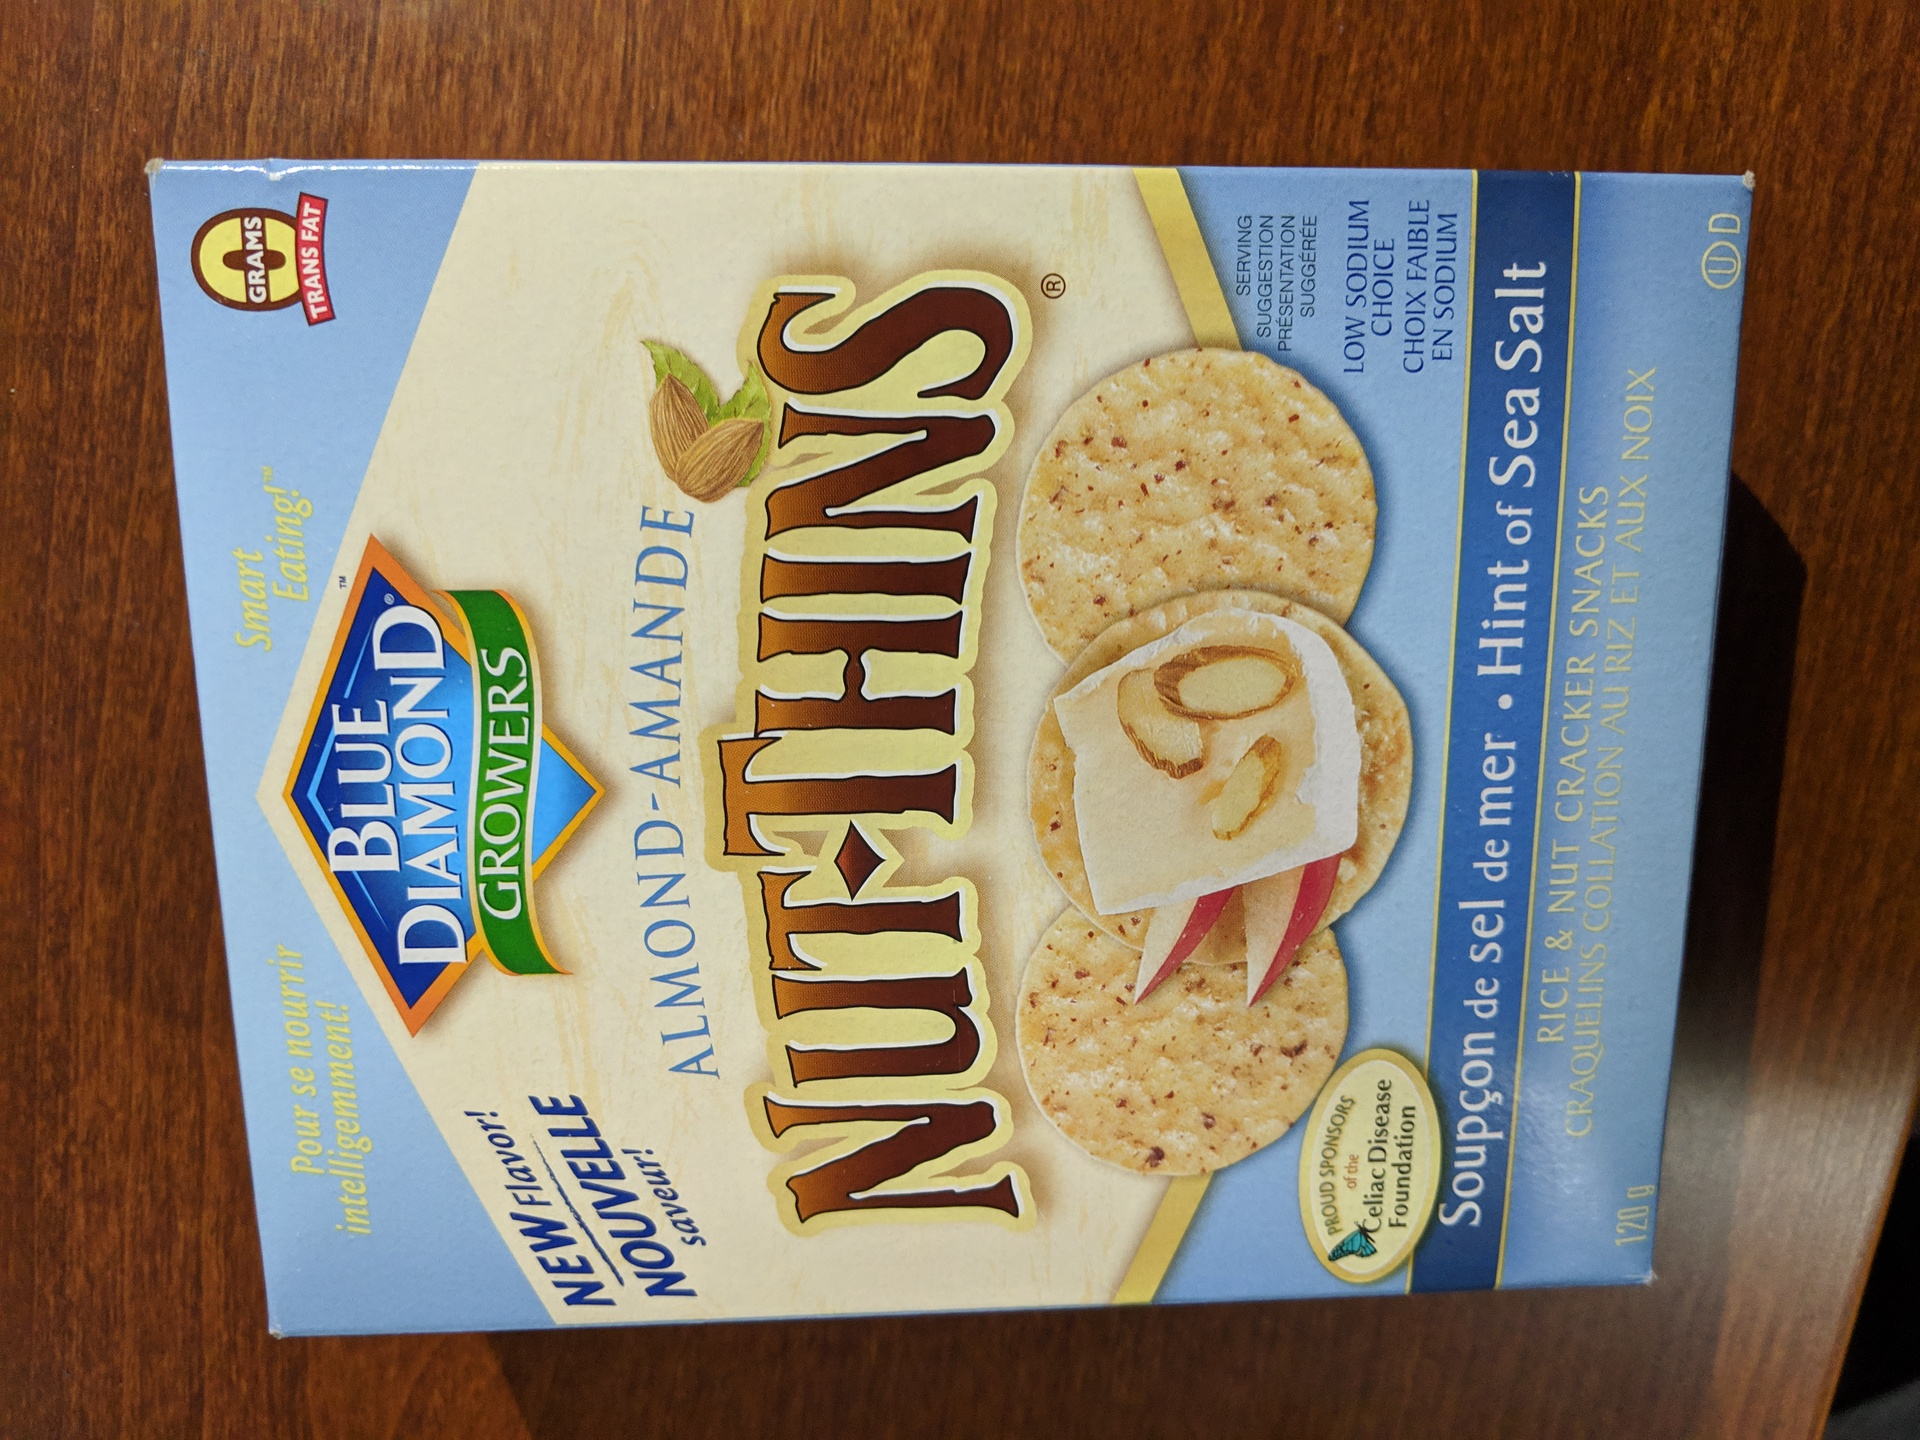blue_diamond_nut_thins_almond_seasalt: (274, 175, 1645, 1280)
